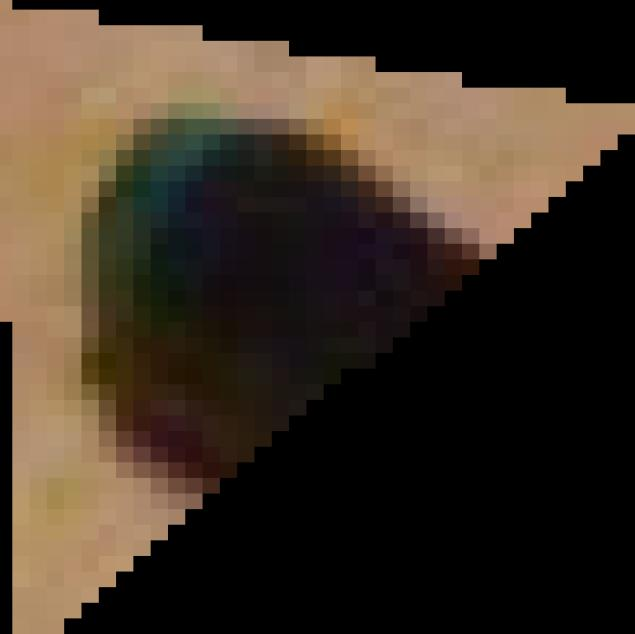green: (1, 1, 635, 634)
